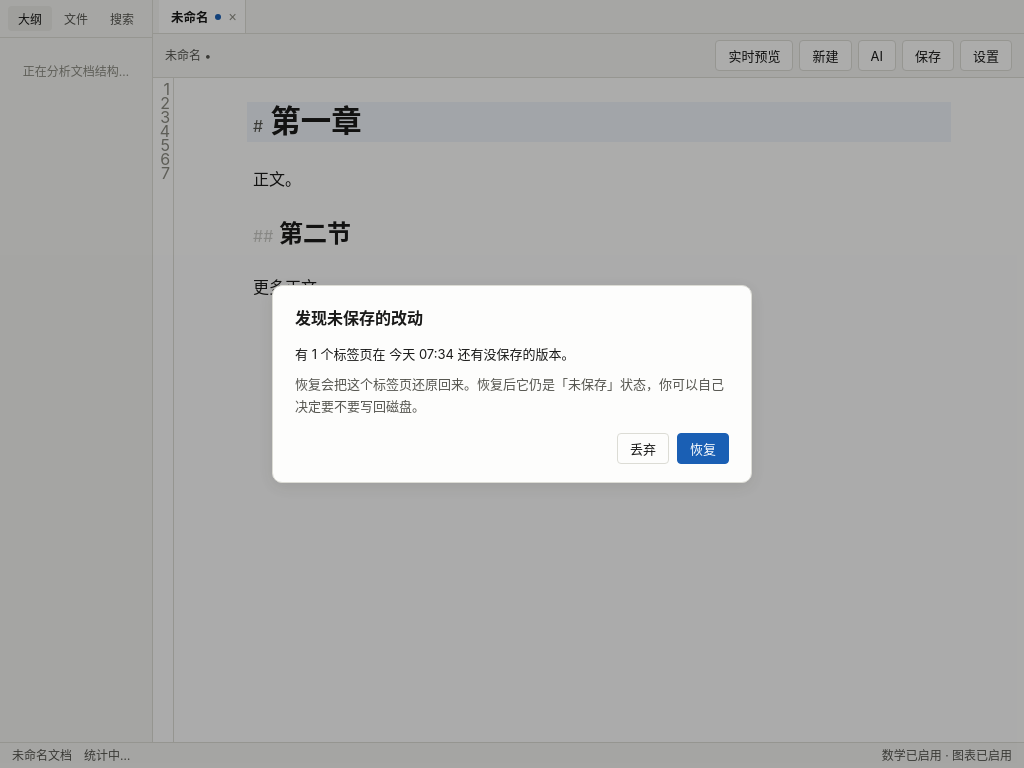
应用交互 › 启动时发现未保存的改动会提示恢复，恢复后内容回到编辑器
Click the button "恢复".
click(703, 449)  # box top-left (677, 433), bottom-right (729, 464)
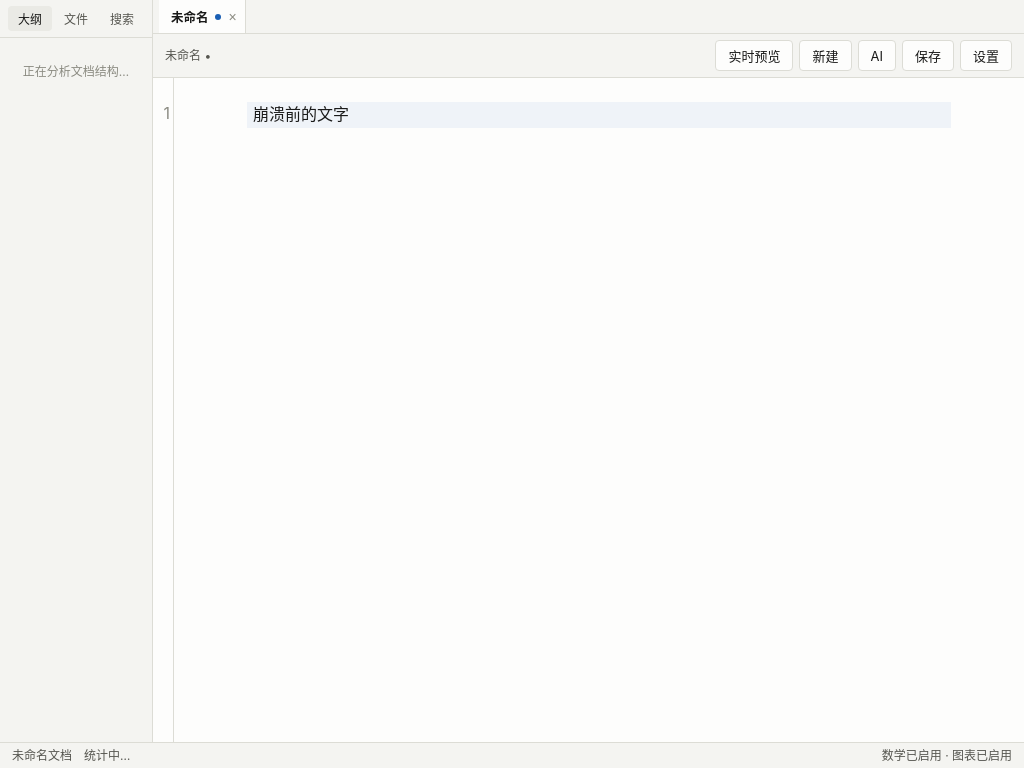
Check: the text box labelled "崩溃前的文字" is shown, box top-left (247, 102), bottom-right (951, 128)
